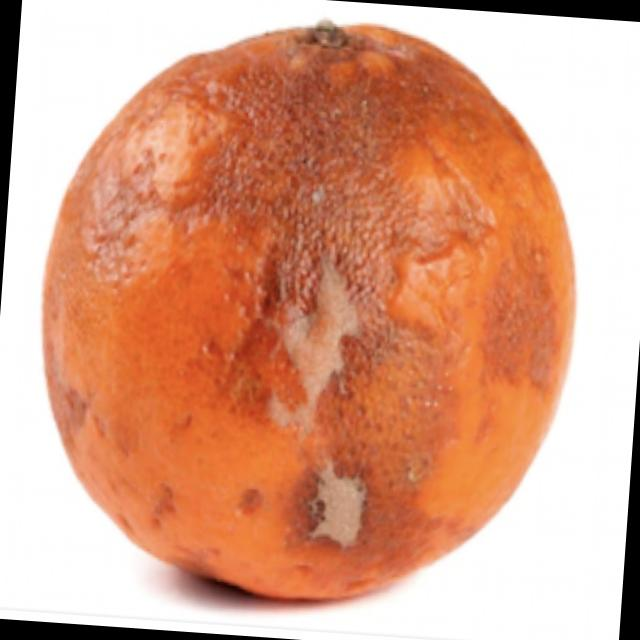rotten-orange: (27, 6, 598, 618)
